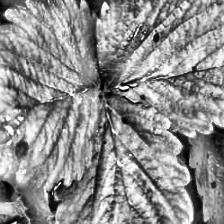Leaf Spot: (0, 0, 102, 193), (53, 92, 195, 224), (94, 0, 224, 139), (187, 123, 224, 224)
